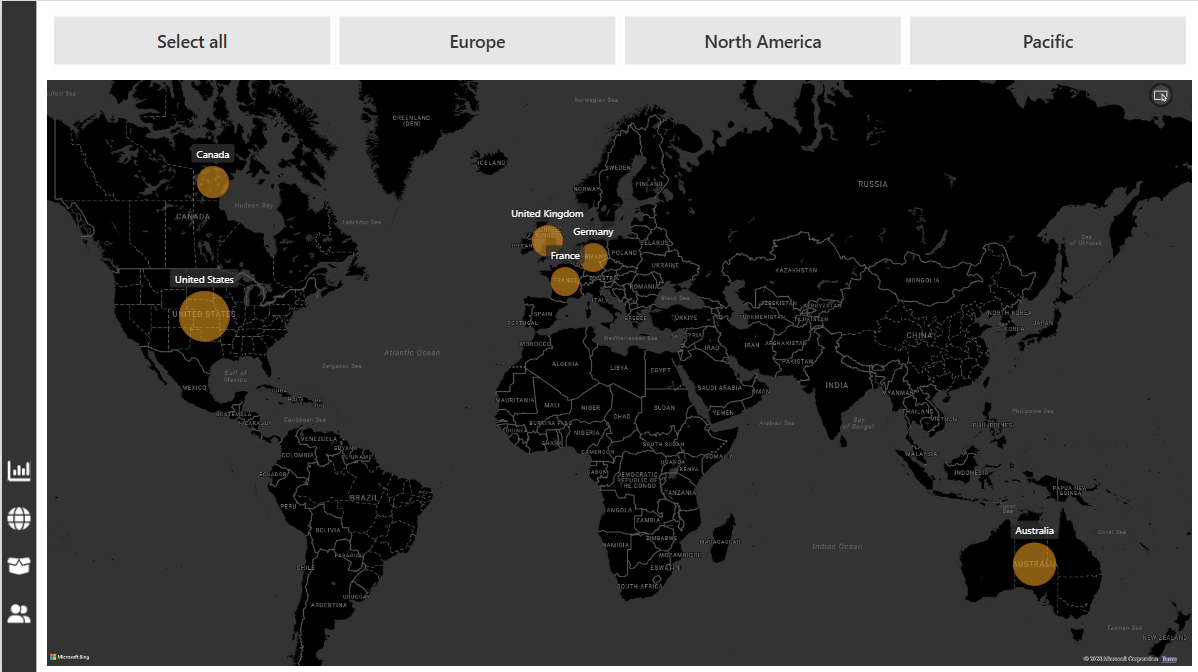

The page's visual inventory and layout, read from the dashboard file:
{"tool":"powerbi","page":{"name":"Map","canvas":[1920,1080],"ordinal":2},"visuals":[{"type":"shape","box":[0,0,55,1080],"z":0},{"type":"actionButton","box":[0,723.9,54.3,56.1],"z":0,"group":"g1"},{"type":"map","fields":{"Category":["Territory Lookup.Country"],"Size":["Measure Table.Total Orders"]},"box":[56,112,1864,968],"z":1000},{"type":"actionButton","box":[0,799.9,54.3,56.1],"z":1000,"group":"g1"},{"type":"slicer","fields":{"Values":["Territory Lookup.Continent"]},"box":[56,16,1864,94],"z":2000},{"type":"actionButton","box":[0,876,54.3,56.1],"z":2000,"group":"g1"},{"type":"group","id":"g1","title":"Navigation Buttons","box":[0,723.9,54.3,284.1],"z":3000},{"type":"actionButton","box":[0,952,54,56],"z":3000,"group":"g1"}]}

Visuals, with their boxes on the page's 1920x1080 design canvas (x1, y1, x2, y2). These are canvas units, not pixel positions in the 1198x672 screenshot, which may show the page scaled, cropped or inside an application window:
shape: bbox=[0, 0, 55, 1080]
actionButton: bbox=[0, 724, 54, 780]
map - Territory Lookup.Country x Measure Table.Total Orders: bbox=[56, 112, 1920, 1080]
actionButton: bbox=[0, 800, 54, 856]
slicer - Territory Lookup.Continent: bbox=[56, 16, 1920, 110]
actionButton: bbox=[0, 876, 54, 932]
"Navigation Buttons" group: bbox=[0, 724, 54, 1008]
actionButton: bbox=[0, 952, 54, 1008]
